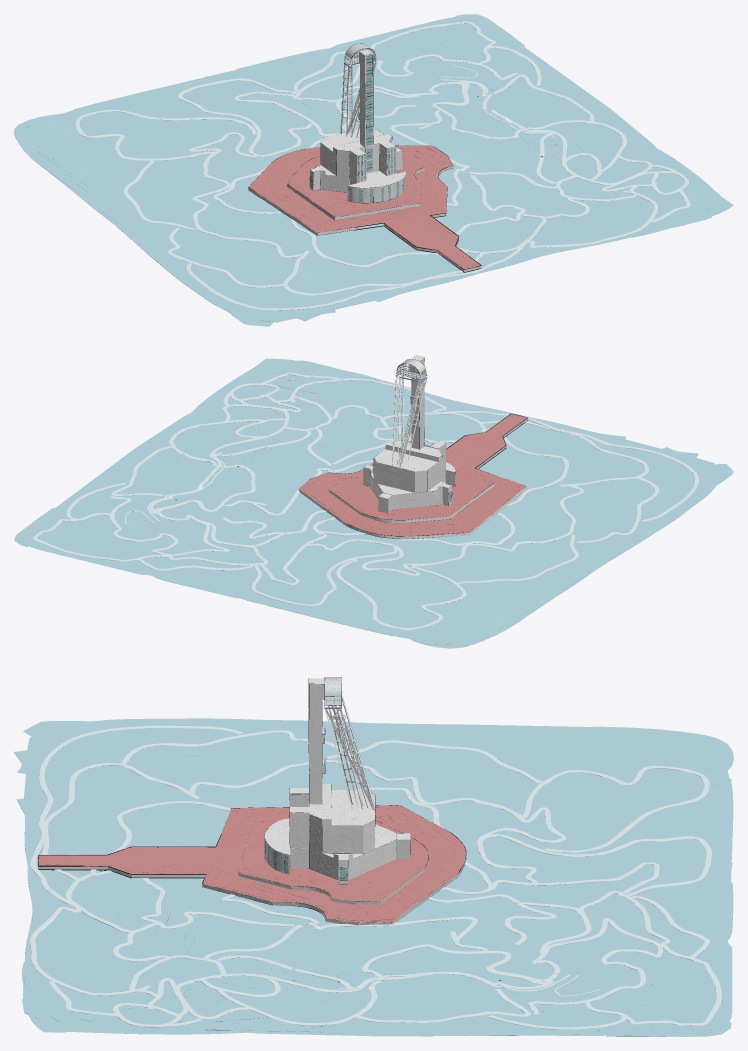
The picture shows the model from 3 angles, top to bottom: view 1: azimuth 30°, elevation 25°; view 2: azimuth 150°, elevation 25°; view 3: azimuth 270°, elevation 25°; orthographic projection. The views are drawn at different scales.
Visible parts, largest first — view 1: node_128; view 2: node_128; view 3: node_128.
Boxes of the visible parts, left/top/right/bottom form: node_128: left=14, top=14, right=733, bottom=326; node_128: left=14, top=355, right=733, bottom=648; node_128: left=14, top=677, right=733, bottom=1036.
Size of the model in its own units: 78.45 by 22.26 by 74.92.
